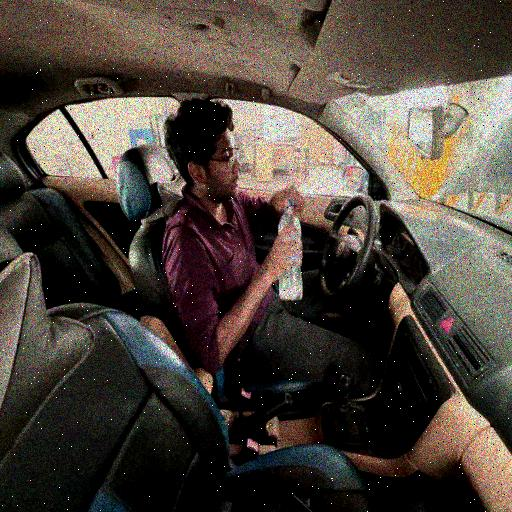Drinking: (160, 96, 334, 376)
